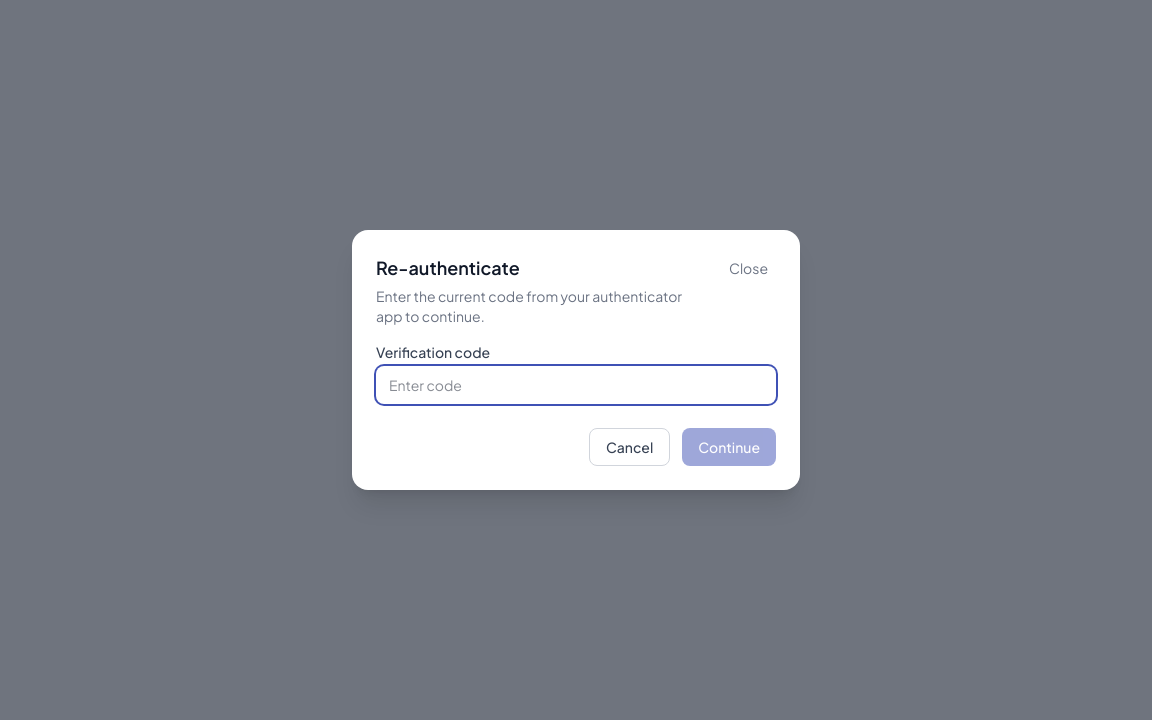
Test: ReauthModal backend contract and accessibility › announces submission failure and associates it with the focused code field
In the field labelled "Verification code": [576, 385] box x1=376 y1=366 x2=776 y2=404, type "123456"
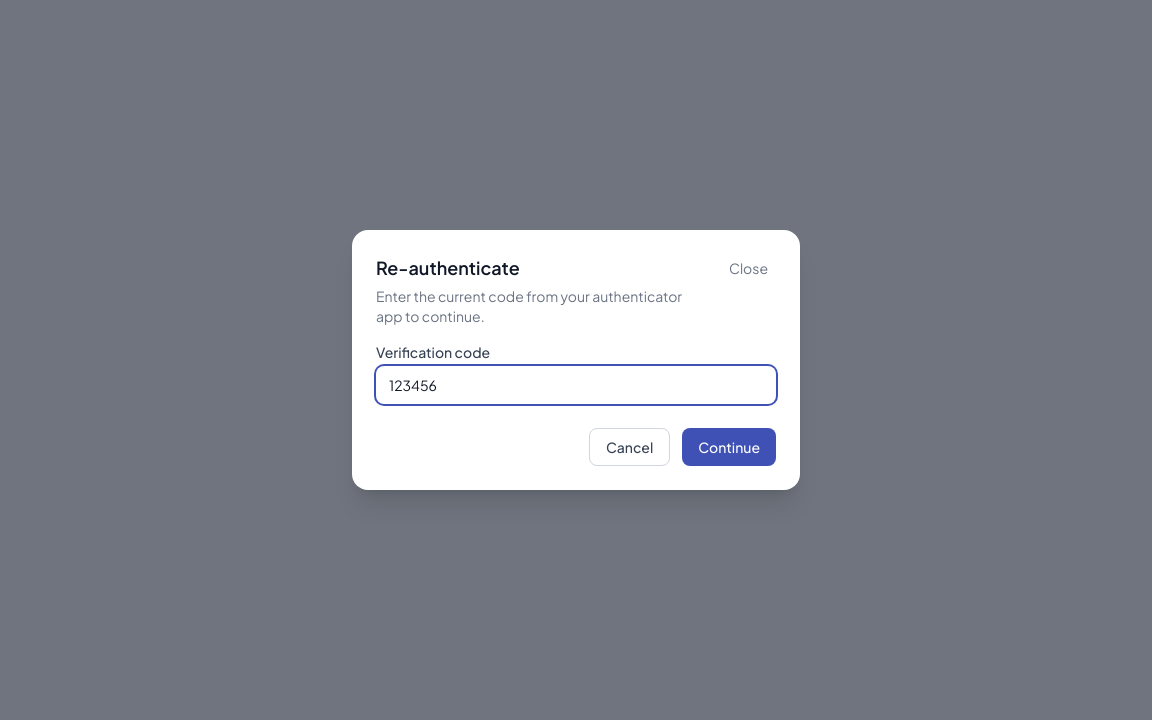
Click the button "Continue": [729, 447] box x1=682 y1=428 x2=776 y2=466
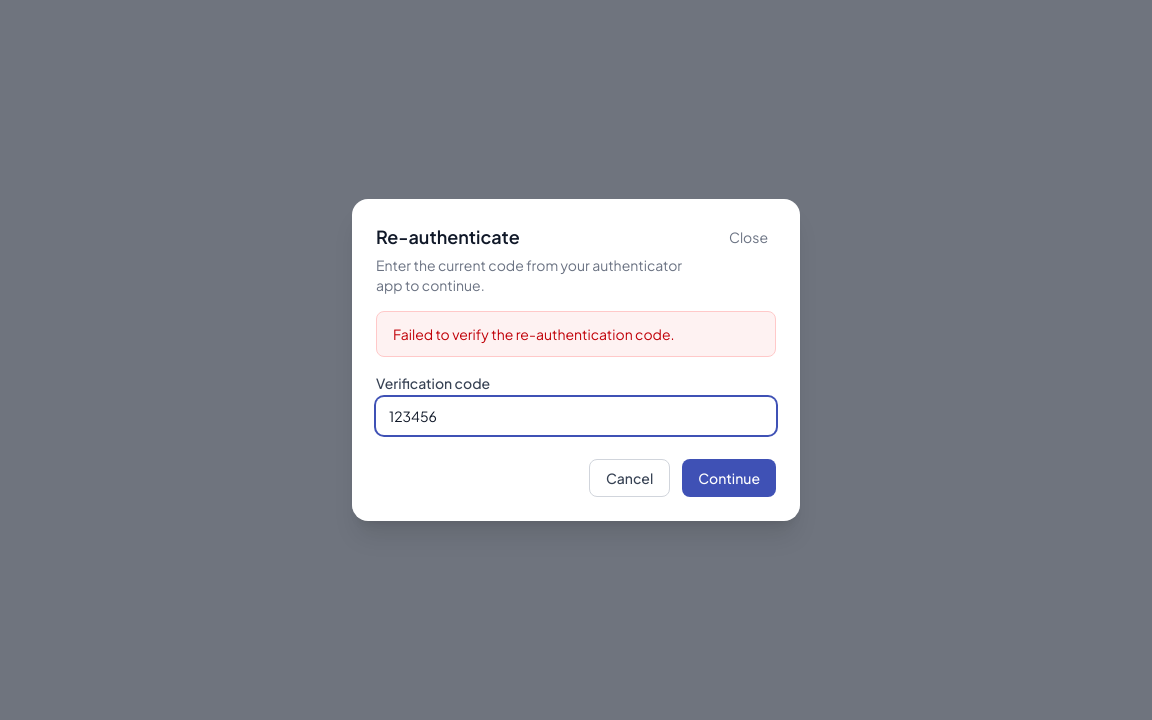
Expected: the message reads "Failed to verify the re-authentication code.", x1=393 y1=325 x2=675 y2=343
